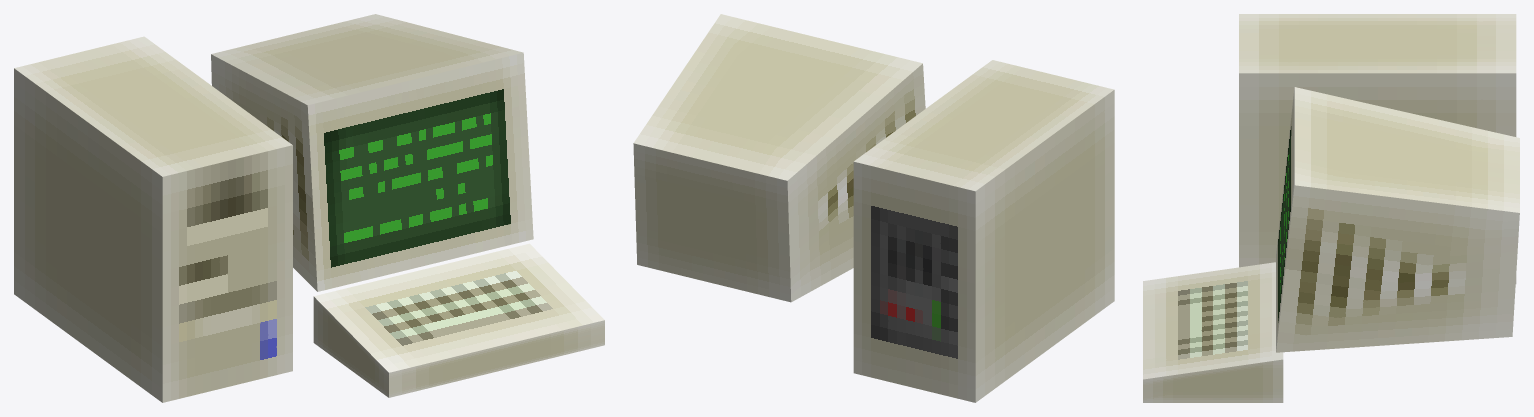
3 renders of one model, left to right at view 1: azimuth 30°, elevation 25°; view 2: azimuth 150°, elevation 25°; view 3: azimuth 270°, elevation 25°, orthographic. The views are drawn at different scales.
Visible parts, largest first — view 1: prim112-Computer; view 2: prim112-Computer; view 3: prim112-Computer.
Boxes of the visible parts, <box> form: prim112-Computer: <box>14,14,604,402</box>; prim112-Computer: <box>633,14,1114,402</box>; prim112-Computer: <box>1143,14,1519,402</box>.
Bounding box in the file's own units: 114 × 65 × 102.
Materials: 1 (1 with a texture image).
